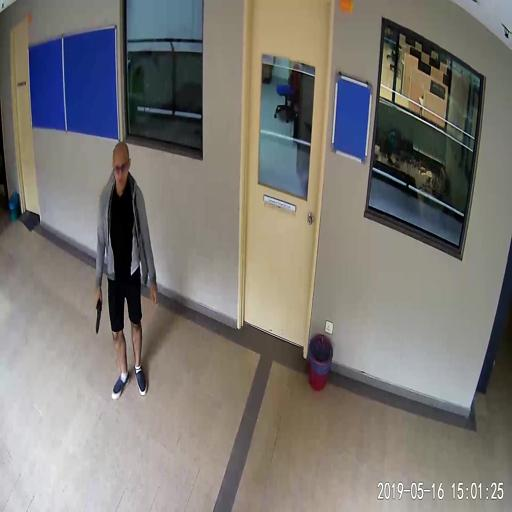pistol: (94, 293, 102, 333)
